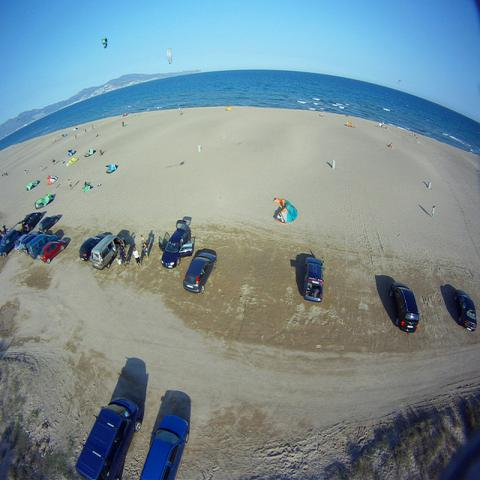car: (75, 396, 142, 479), (138, 413, 190, 479), (82, 232, 130, 270), (159, 219, 194, 269), (389, 282, 419, 334), (181, 253, 217, 295), (299, 254, 324, 303), (454, 290, 477, 332), (28, 234, 58, 260), (78, 233, 106, 260), (40, 240, 66, 264), (14, 231, 38, 252), (22, 234, 39, 253)
